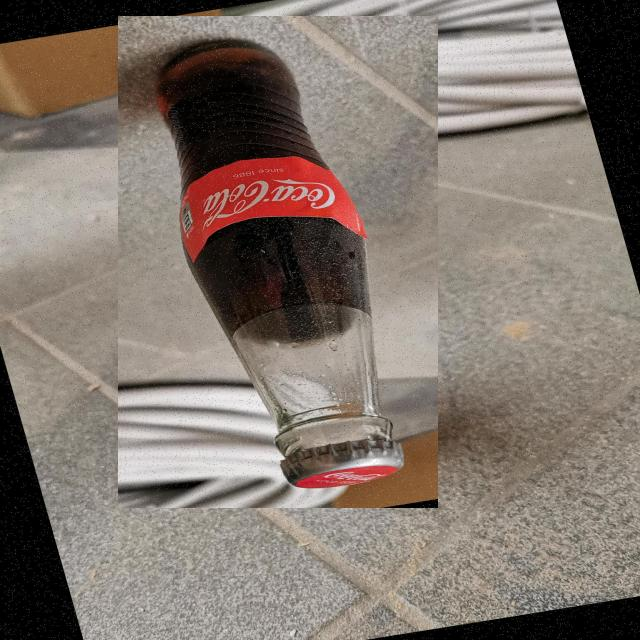coca-cola: (118, 16, 438, 508)
